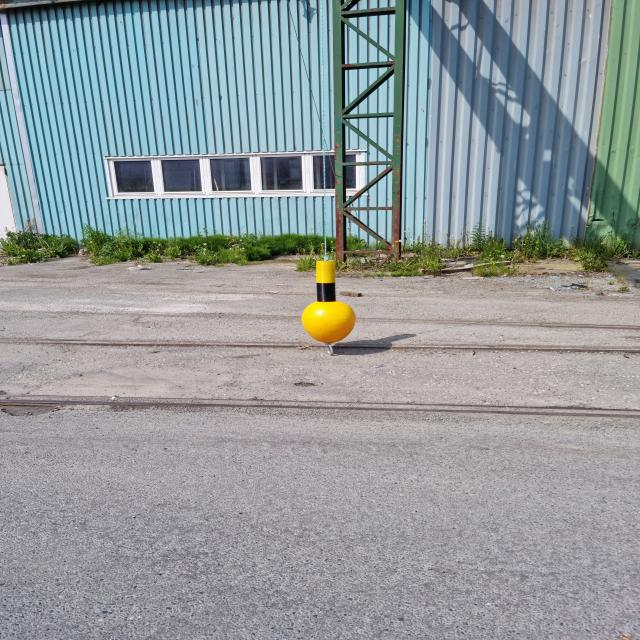west: (302, 259, 355, 343)
